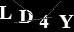4: (38, 14, 50, 29)
D: (16, 8, 34, 24)
L: (1, 4, 12, 20)
Y: (57, 13, 74, 29)
